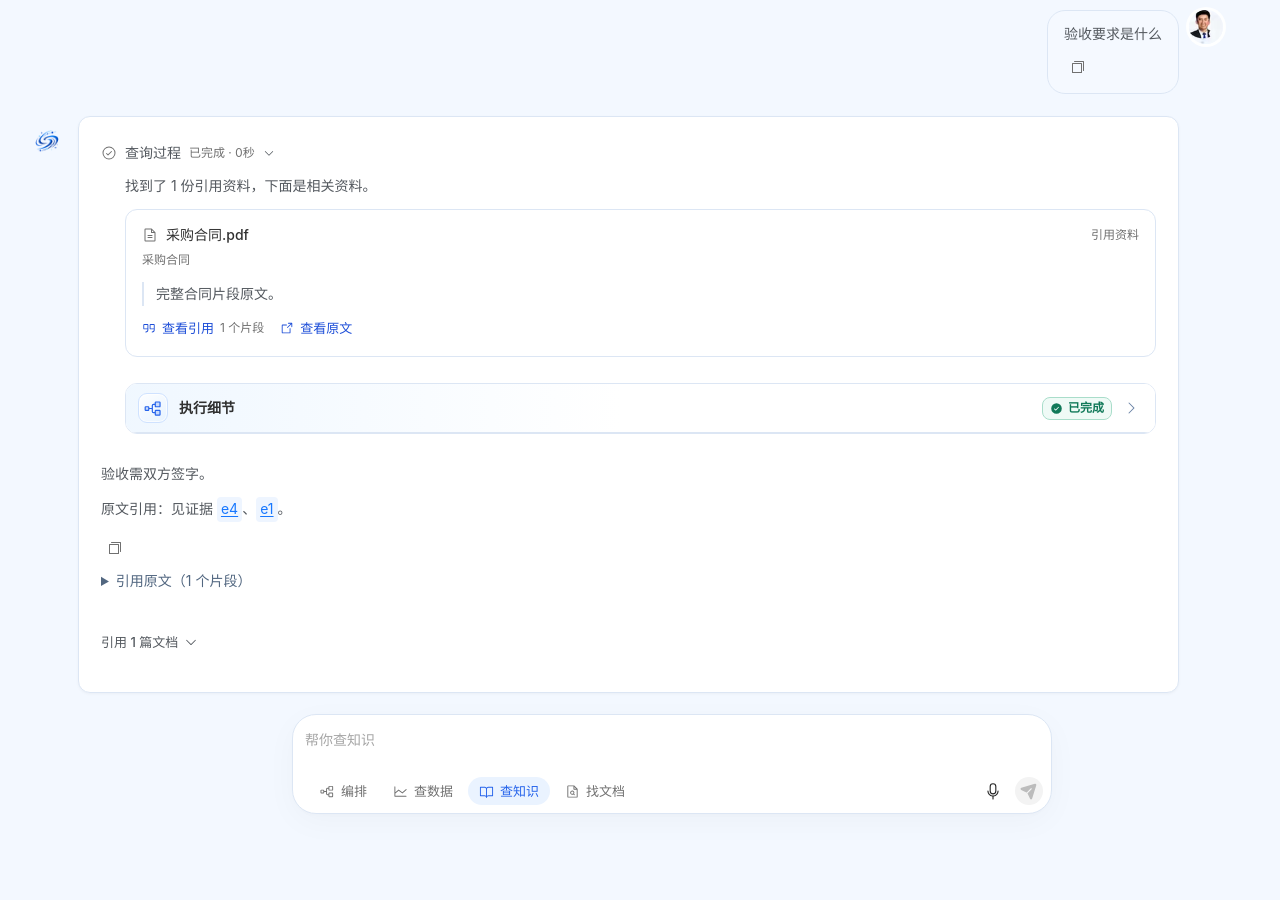
Scenario: analysis response phases › keeps long quotes collapsed after the answer and opens an honest evidence fallback
Click the button named "e4：查看本轮引用文档（暂未提供准确位置）": point(230, 509) x1=217 y1=497 x2=242 y2=522
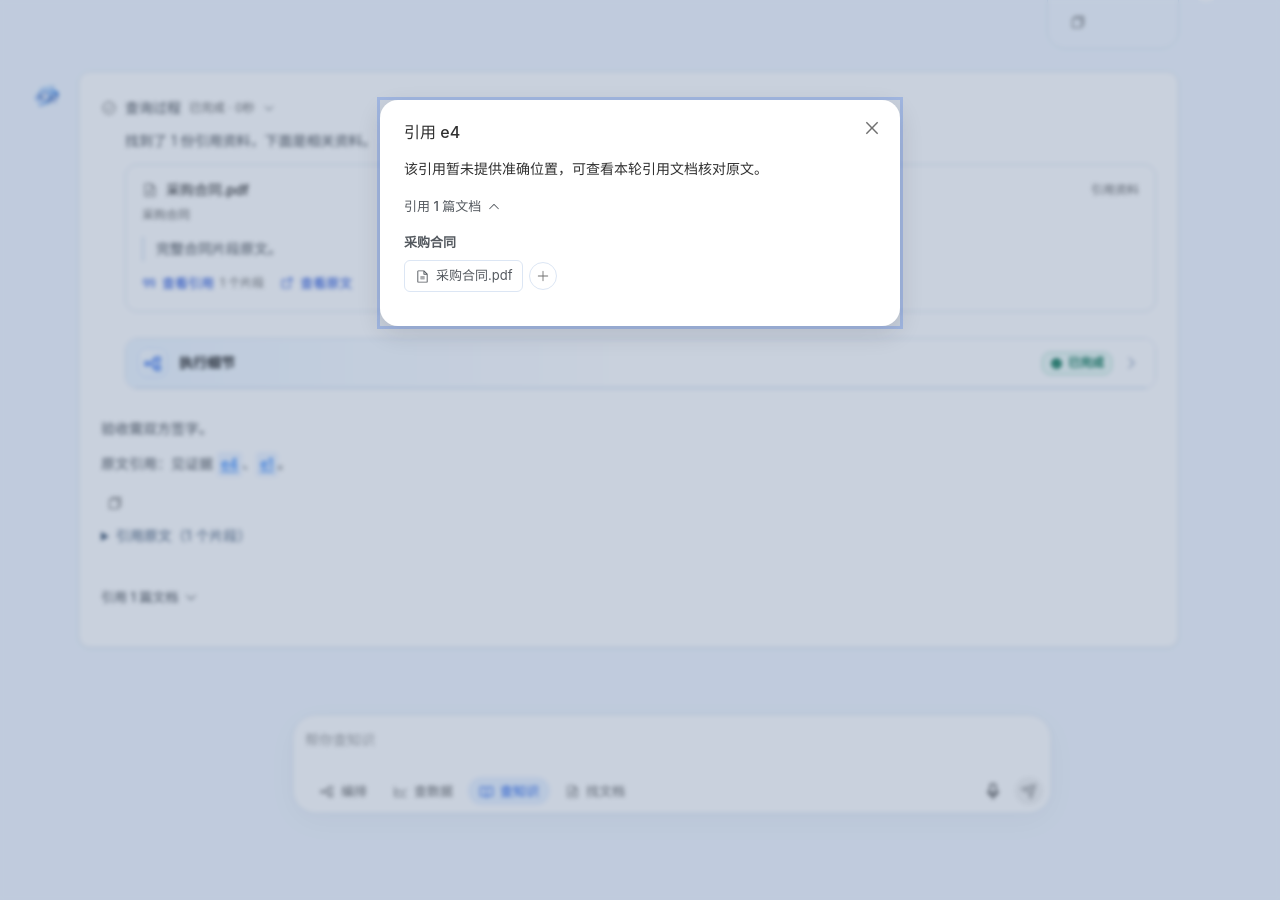
Now the dialog shows "该引用暂未提供准确位置", box x1=404 y1=160 x2=768 y2=177
Now the button named "浏览文档片段：采购合同.pdf" is shown, box x1=530 y1=262 x2=558 y2=290
